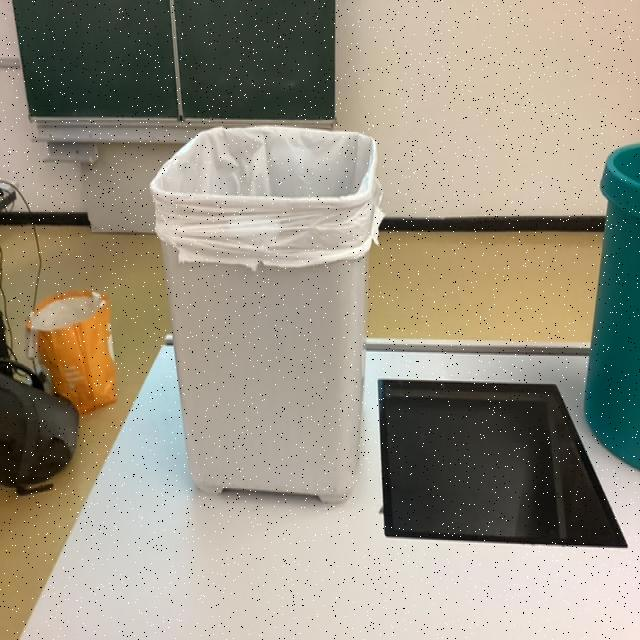garbage container: (125, 68, 411, 565), (581, 92, 640, 528)
